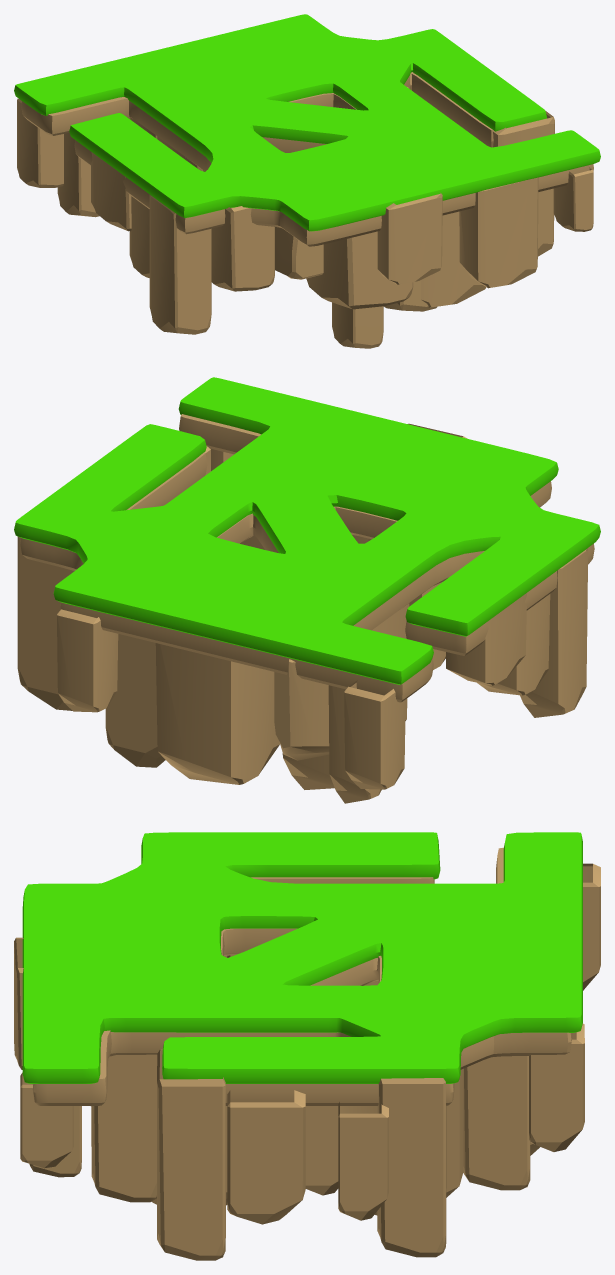
File: map.fbx
The picture shows the model from 3 angles, top to bottom: view 1: azimuth 30°, elevation 25°; view 2: azimuth 150°, elevation 25°; view 3: azimuth 270°, elevation 25°; orthographic projection. The views are drawn at different scales.
Parts seen in each view (by area): view 1: Plane.001, Plane.024, Plane.049; view 2: Plane.001, Plane.024, Plane.049; view 3: Plane.001, Plane.024, Plane.049.
Boxes of the visible parts, left/top/right/bottom form: Plane.001: left=14, top=14, right=600, bottom=231; Plane.024: left=17, top=72, right=593, bottom=348; Plane.049: left=21, top=73, right=593, bottom=246; Plane.001: left=14, top=377, right=600, bottom=684; Plane.024: left=17, top=423, right=588, bottom=803; Plane.049: left=20, top=414, right=594, bottom=702; Plane.001: left=22, top=832, right=582, bottom=1083; Plane.024: left=14, top=863, right=600, bottom=1260; Plane.049: left=32, top=847, right=572, bottom=1105.
Size of the model in its own units: 22069 by 10338 by 21975.
